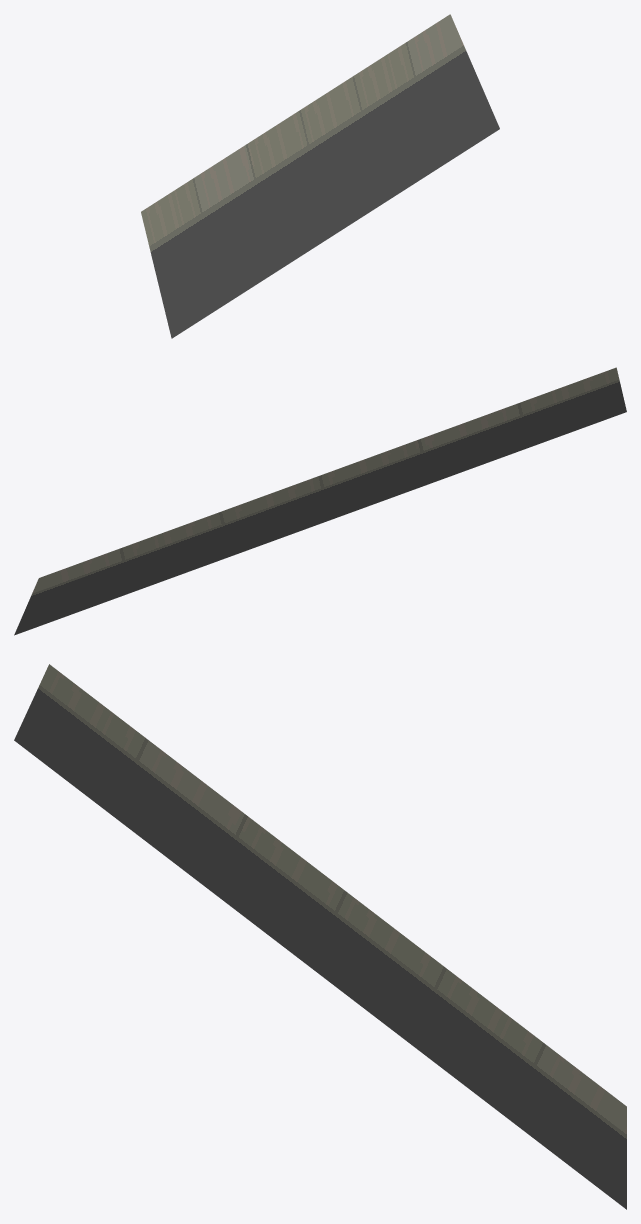
The model's file is kd_stage_135b75_4_94_bounded_piece_5.glb.
The picture shows the model from 3 angles, top to bottom: view 1: azimuth 30°, elevation 25°; view 2: azimuth 150°, elevation 25°; view 3: azimuth 270°, elevation 25°; orthographic projection. The views are drawn at different scales.
Visible parts, largest first — view 1: kd_stage_135b75_4_94_bounded_piece_5; view 2: kd_stage_135b75_4_94_bounded_piece_5; view 3: kd_stage_135b75_4_94_bounded_piece_5.
Part boxes in pixels (x1,y1,x2,y2): kd_stage_135b75_4_94_bounded_piece_5: [141, 14, 499, 338]; kd_stage_135b75_4_94_bounded_piece_5: [14, 367, 626, 635]; kd_stage_135b75_4_94_bounded_piece_5: [14, 664, 626, 1209].
Size of the model in its own units: 1.01 by 0.5154 by 1.
1 material, 1 textured.
